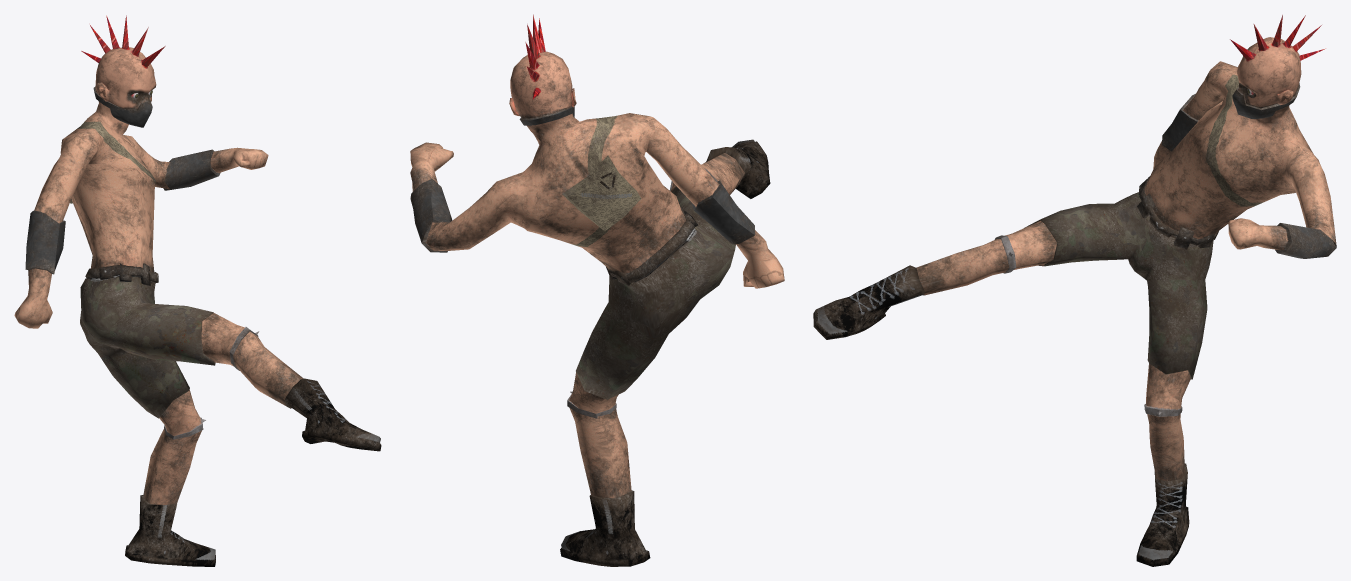
The model's file is Anim_ataque_f2_npc2.0020.obj.
The picture shows the model from 3 angles, left to right: view 1: azimuth 30°, elevation 25°; view 2: azimuth 150°, elevation 25°; view 3: azimuth 270°, elevation 25°; orthographic projection. The views are drawn at different scales.
Visible parts, largest first — view 1: polySurface1; view 2: polySurface1; view 3: polySurface1.
Part boxes in pixels (box(x1,y1,x2,y2)): polySurface1: box(14, 15, 381, 566); polySurface1: box(410, 14, 784, 566); polySurface1: box(813, 15, 1336, 566).
Bounding box in the file's own units: 5.6 × 9.46 × 8.33.
